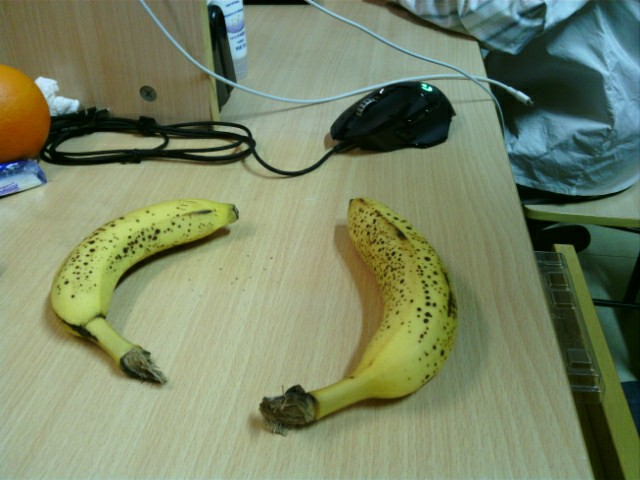normal_banana: (260, 198, 452, 437), (52, 199, 240, 386)
